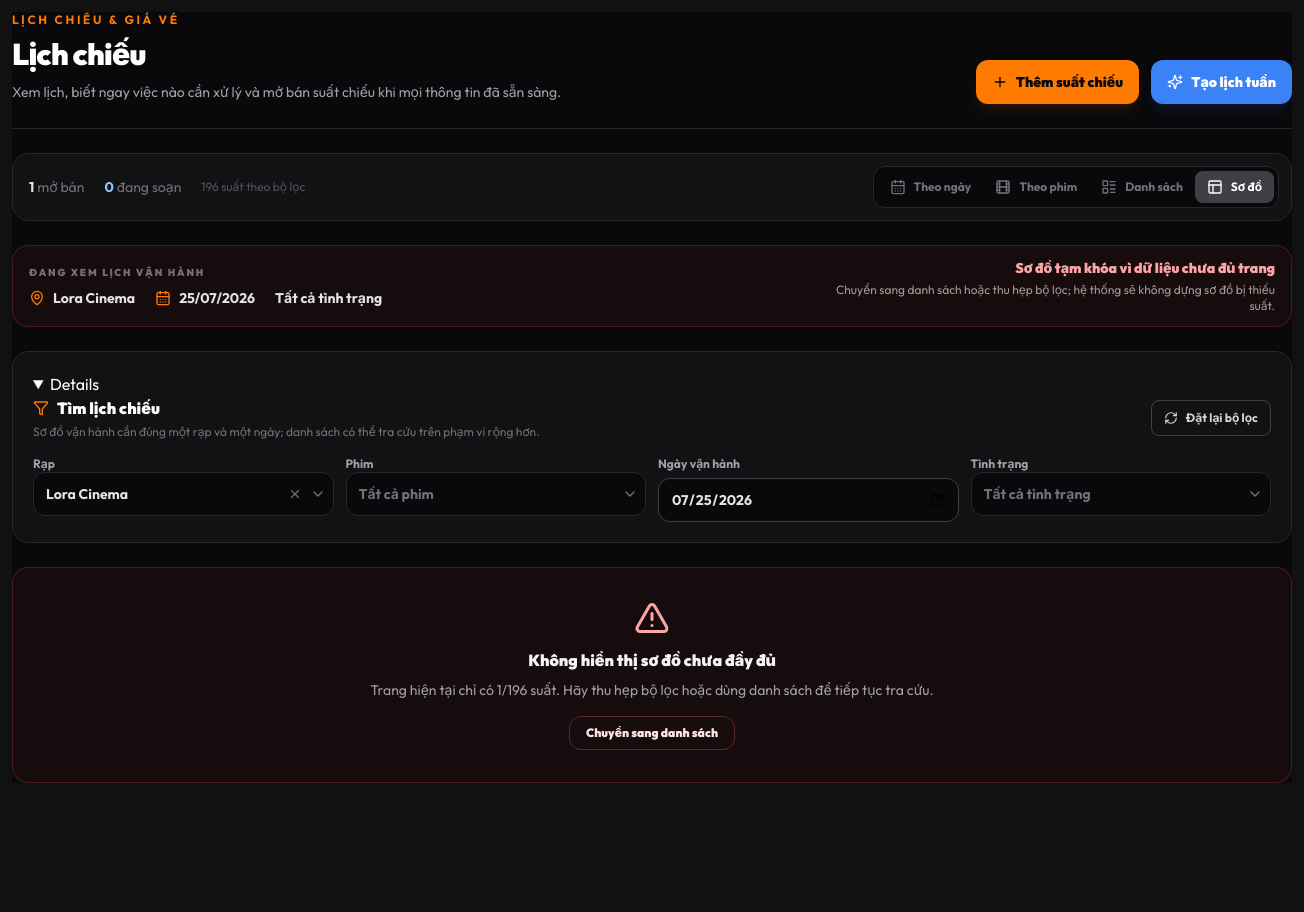
Test case: ShowtimeTable cinema timezone › blocks the room diagram when the selected operational day is still paginated
Check: the message named "Sơ đồ vận hành chưa sẵn sàng" shows "chỉ có 1/196 suất", box [370, 681, 934, 699]
Click the button "Chuyển sang danh sách". click: (652, 733)
box: [569, 716, 735, 750]
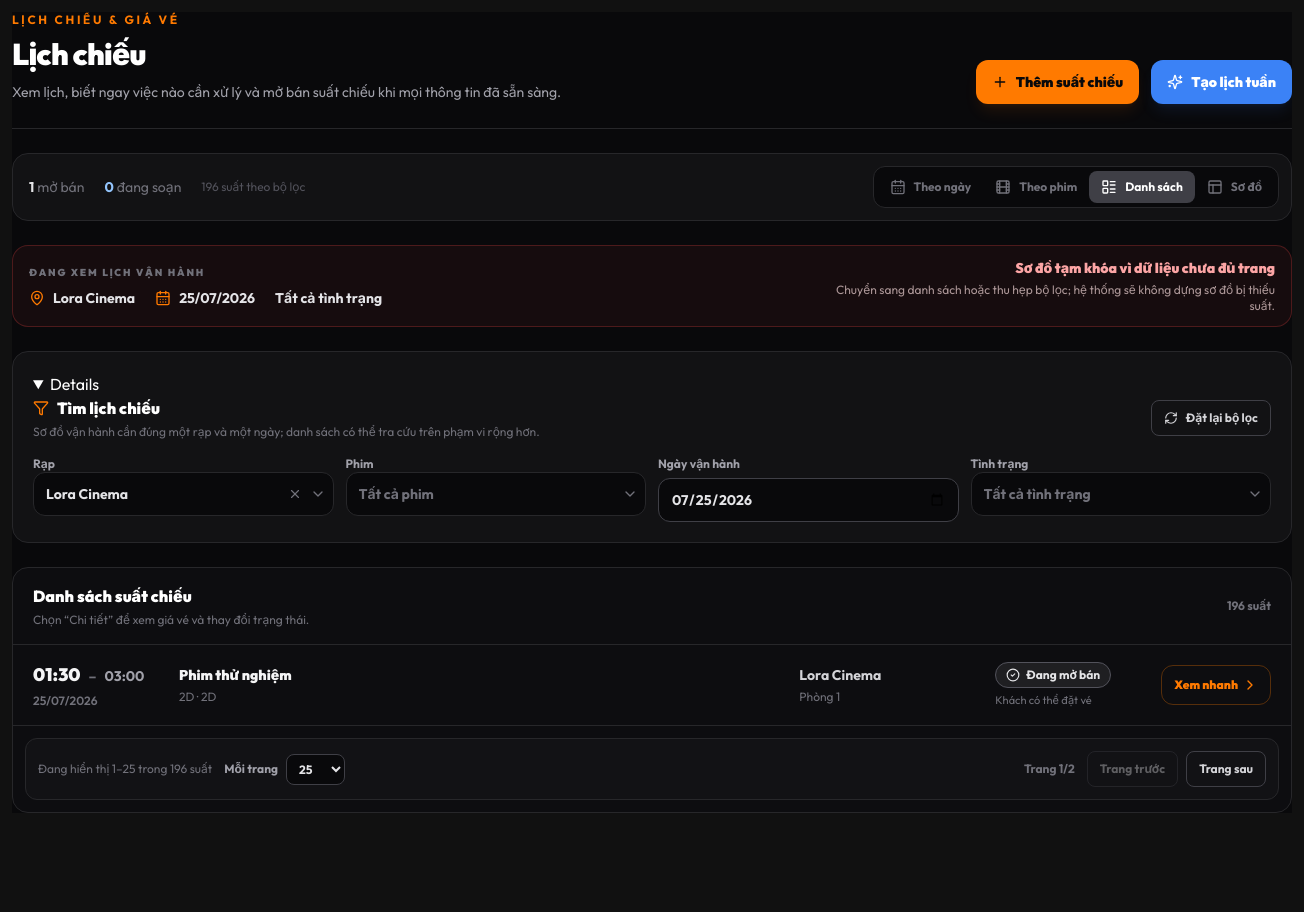
Check: the element "Danh sách suất chiếu" is shown, box [12, 567, 1292, 813]
